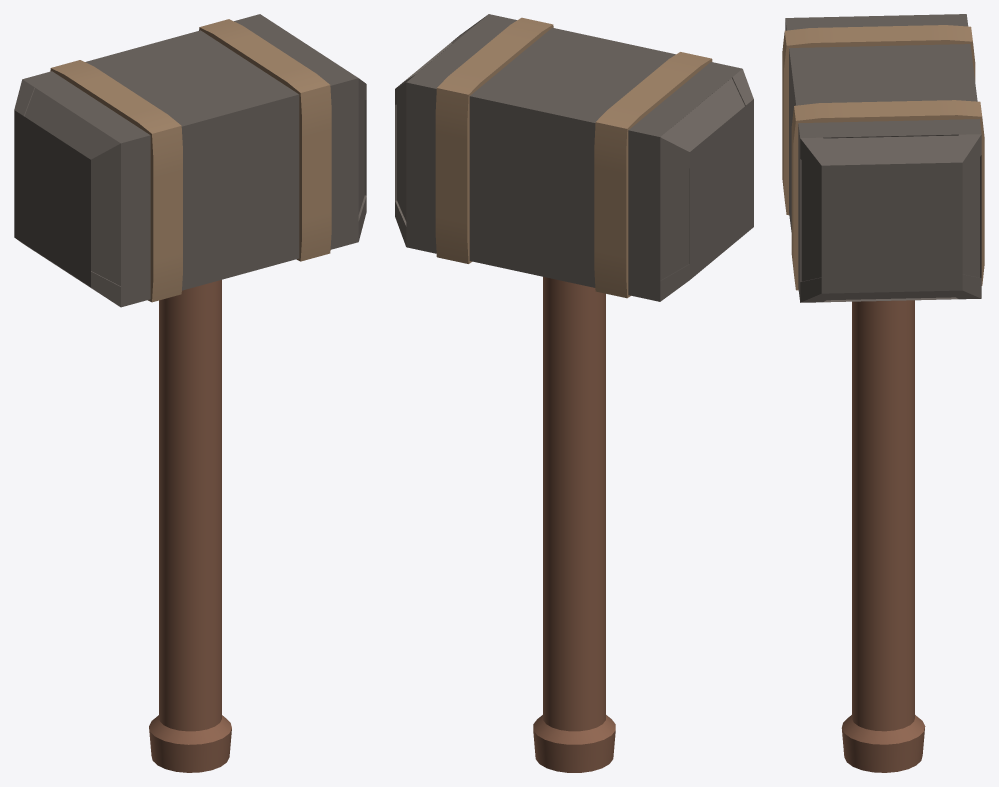
Rendered from hammer textured renske.fbx.
The picture shows the model from 3 angles, left to right: view 1: azimuth 30°, elevation 25°; view 2: azimuth 150°, elevation 25°; view 3: azimuth 270°, elevation 25°; orthographic projection.
Parts seen in each view (by area): view 1: pCube2; view 2: pCube2; view 3: pCube2.
Boxes of the visible parts, x1,y1,x2,y2 form: pCube2: (14,14,366,772); pCube2: (395,14,753,772); pCube2: (782,14,984,772).
Bounding box in the file's own units: 0.628 × 1.41 × 0.3773.
